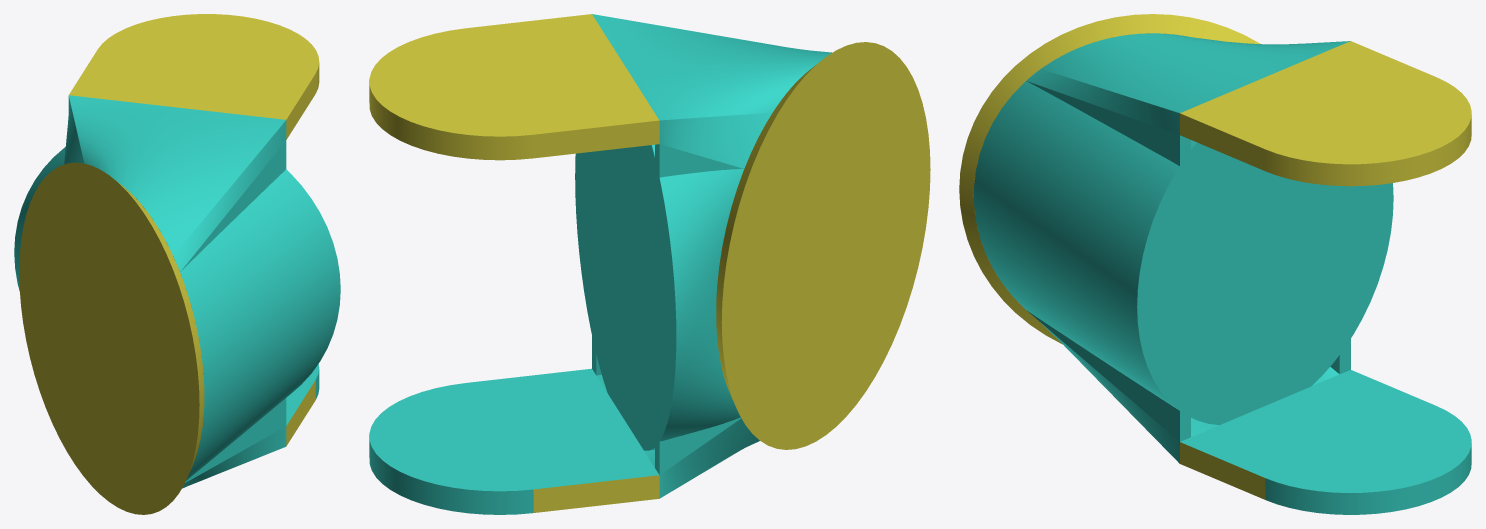
The model's file is hip_bracket_sinister.obj.
3 renders of one model, left to right at view 1: azimuth 30°, elevation 25°; view 2: azimuth 150°, elevation 25°; view 3: azimuth 270°, elevation 25°, orthographic. The views are drawn at different scales.
Parts seen in each view (by area): view 1: Body4, Body3, Body2; view 2: Body3, Body4, Body2; view 3: Body2, Body3, Body4.
Boxes of the visible parts, box(x1,y1,x2,y2) form: Body4: box(19, 162, 204, 514); Body3: box(64, 14, 319, 488); Body2: box(14, 147, 340, 480); Body3: box(369, 14, 831, 514); Body4: box(716, 42, 930, 449); Body2: box(575, 77, 801, 450); Body2: box(974, 33, 1393, 425); Body3: box(1026, 33, 1471, 514); Body4: box(959, 14, 1260, 344).
Bounding box in the file's own units: 0.1471 × 0.16 × 0.2119.
